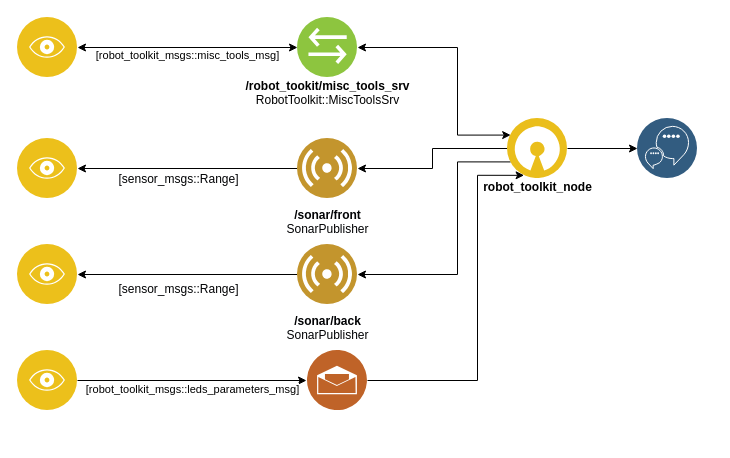
The diagram is 730 pixels wide and 458 high, and some of its shapes have lost their labels. The centre of each missing label's shape, as x and y in pixels:
/leds LedsSubscriber: the point at 337,380
LedsSubscriber: the point at 667,148
